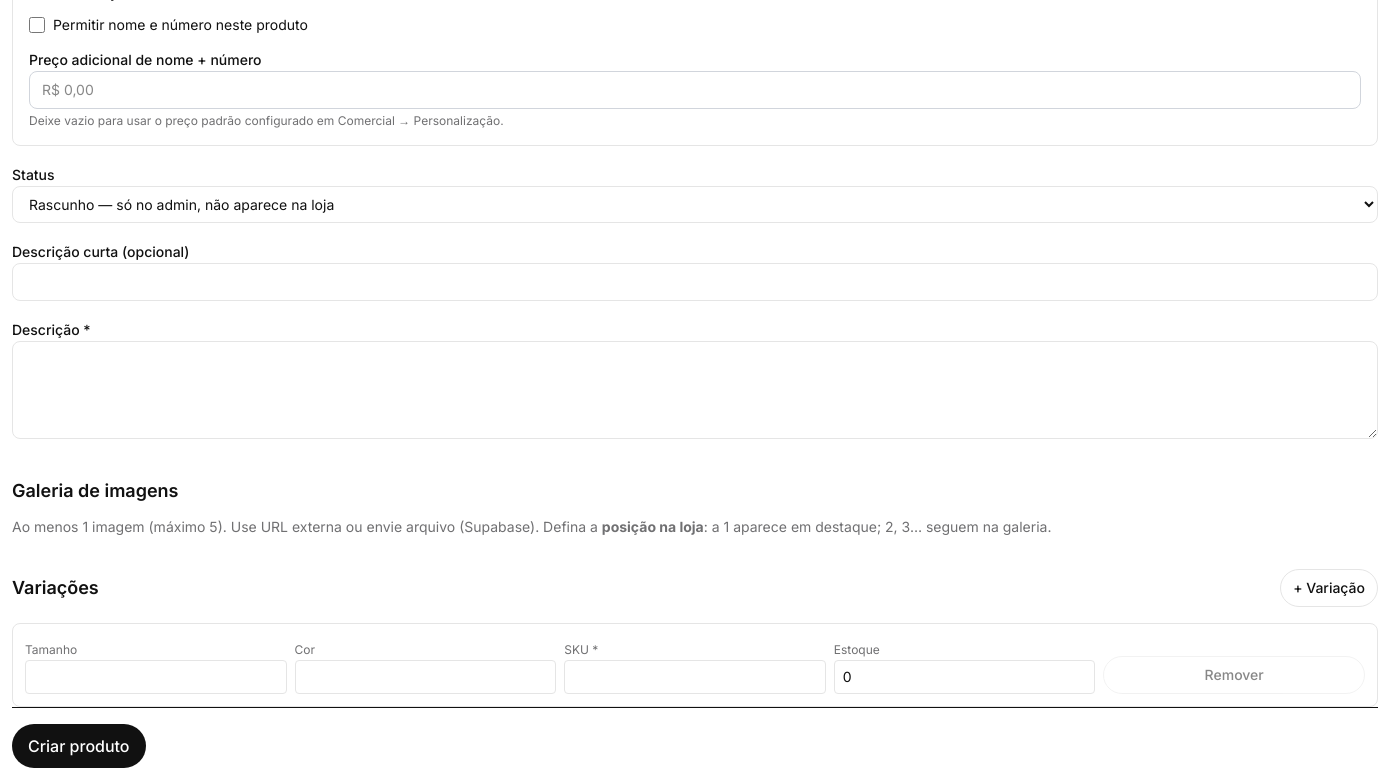
Scenario: ProductForm create flow › bloqueia submit no cliente quando faltam campos obrigatórios
The width and height of the screenshot is (1390, 768).
(page scrolled)
Click the button "Criar produto". click: point(79, 746)
box: [12,724,146,767]
(page scrolled)
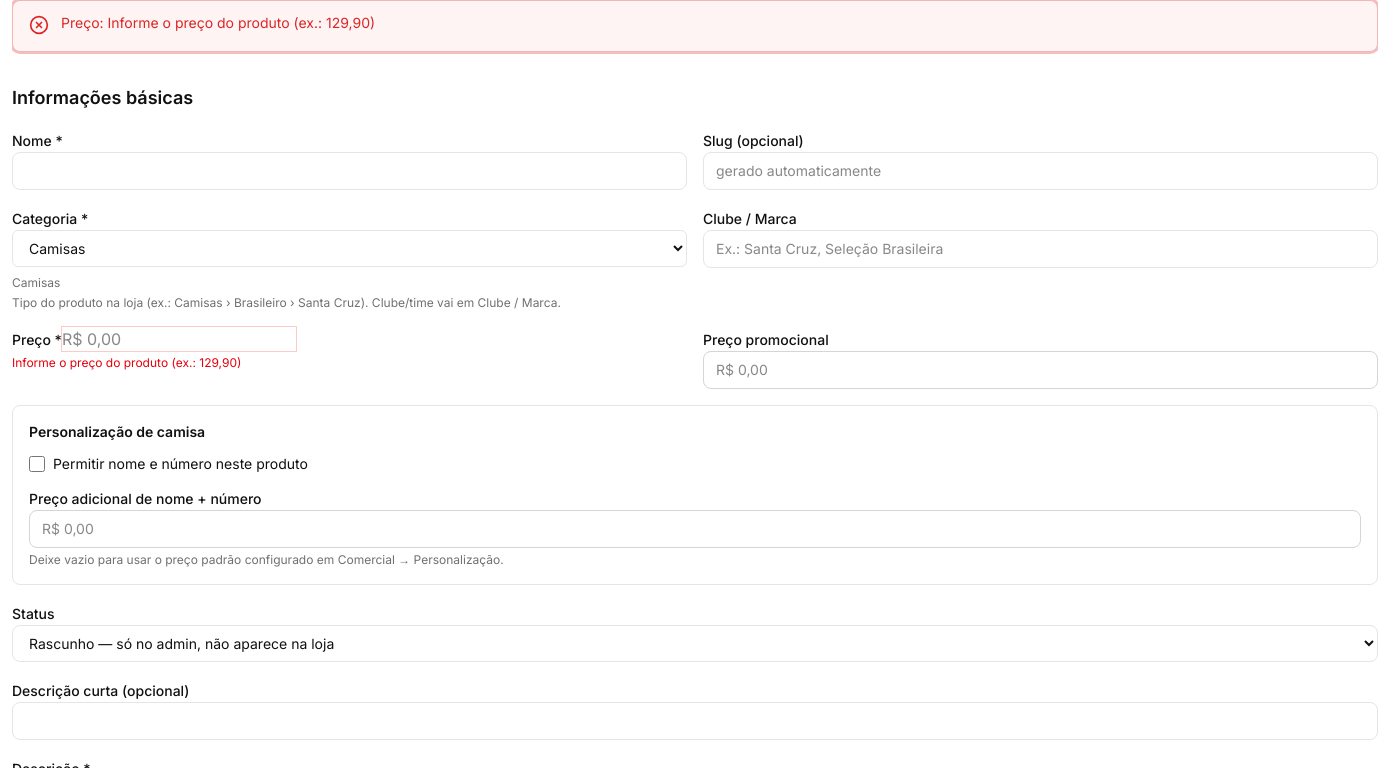
Result: the message reads "Preço: Informe o preço do produto (ex.: 129,90)" at [61,14,375,31]
